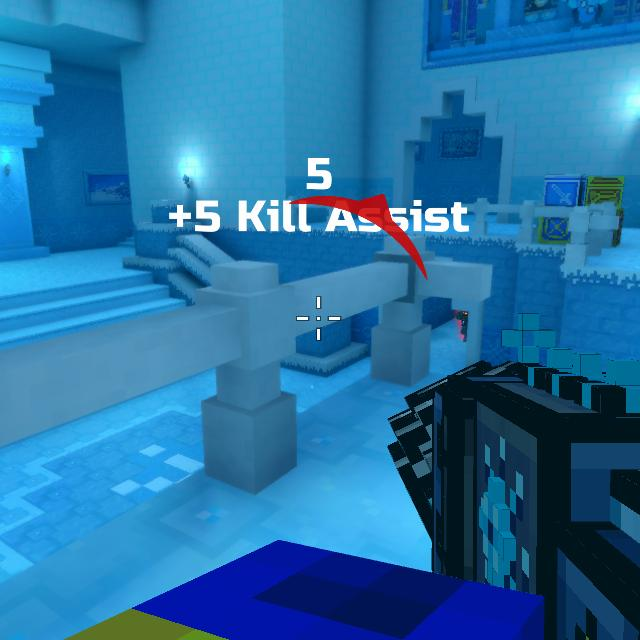Enemy: (457, 308, 468, 337)
